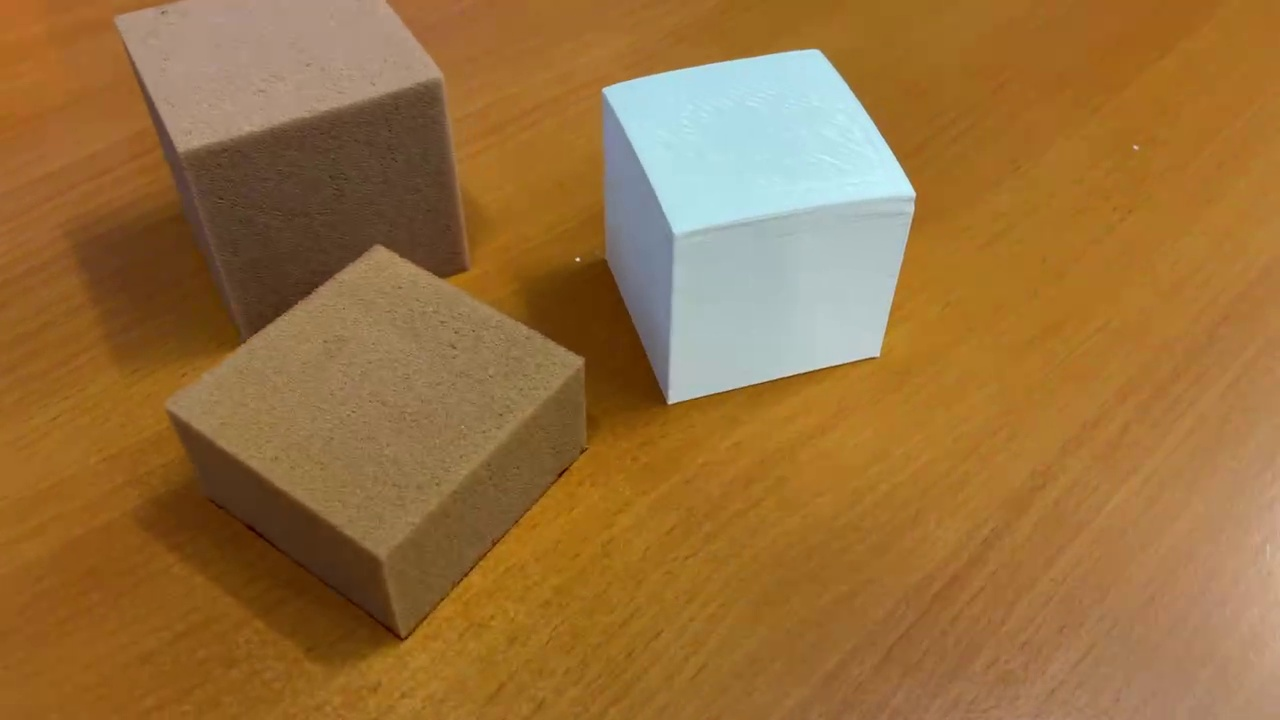Cube: (106, 1, 477, 355), (588, 37, 927, 414)
Cube_short: (161, 237, 592, 648)
